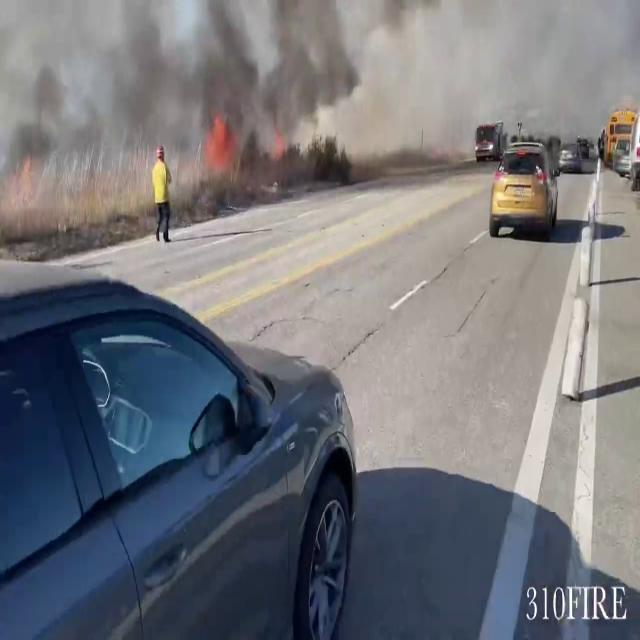Fire: (201, 106, 233, 184)
Smoke: (0, 0, 638, 170)
